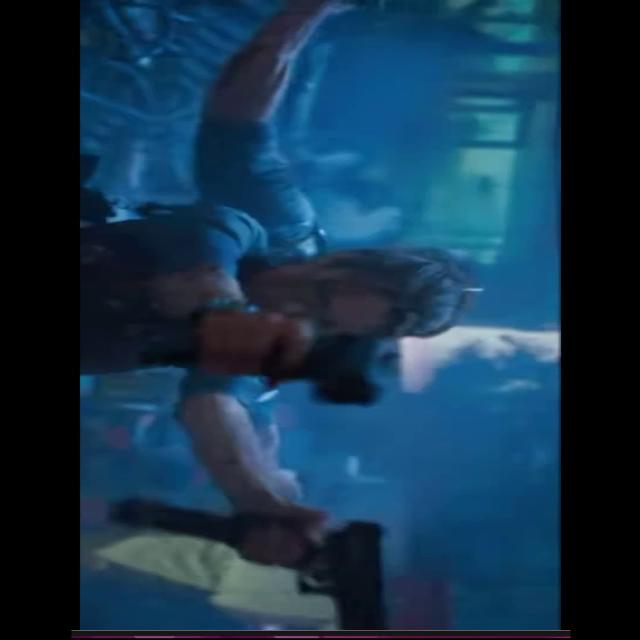weapons: (98, 478, 410, 628), (150, 318, 414, 402)
